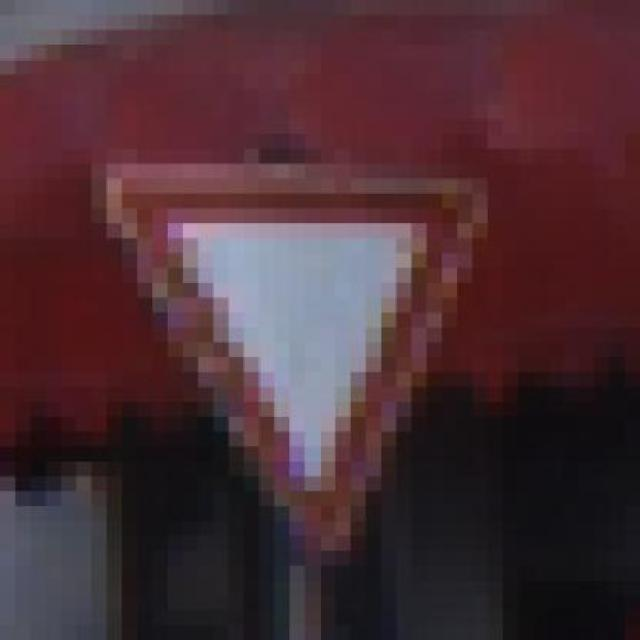Give Way: (76, 134, 533, 580)
